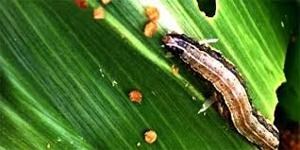fallarmy_worm: (158, 30, 287, 150)
